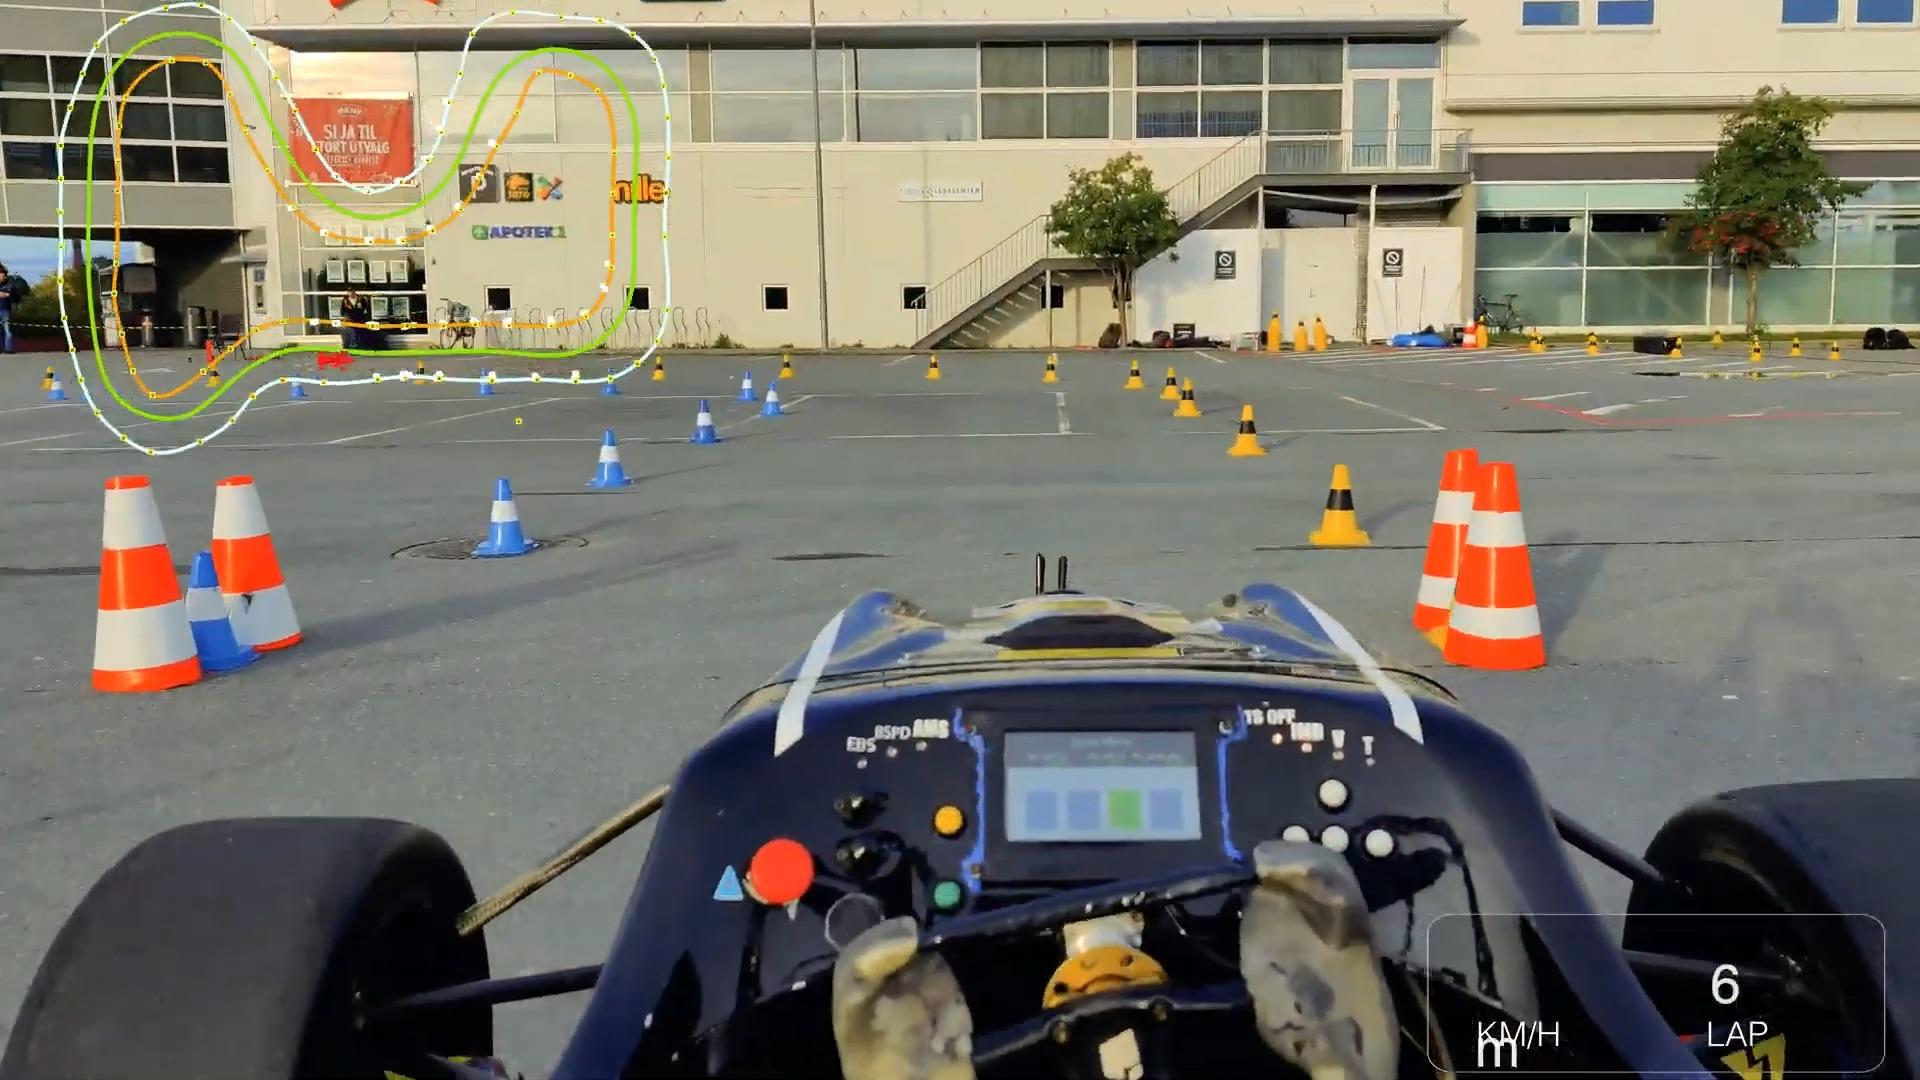blue_cone: (167, 552, 264, 672), (474, 478, 537, 555), (587, 427, 634, 487), (691, 398, 720, 443), (761, 382, 787, 417), (739, 368, 759, 400), (47, 373, 67, 400), (477, 368, 495, 397), (289, 370, 307, 398), (601, 370, 619, 395)
large_orange_cone: (91, 473, 199, 693), (1444, 462, 1546, 670), (200, 475, 299, 655), (1414, 450, 1500, 630)
yellow_cone: (1311, 465, 1372, 543), (1229, 405, 1267, 455), (1176, 377, 1202, 417), (1041, 353, 1064, 383), (1161, 367, 1182, 398), (1126, 358, 1145, 392), (924, 355, 942, 382), (652, 355, 669, 380), (781, 355, 795, 378)
